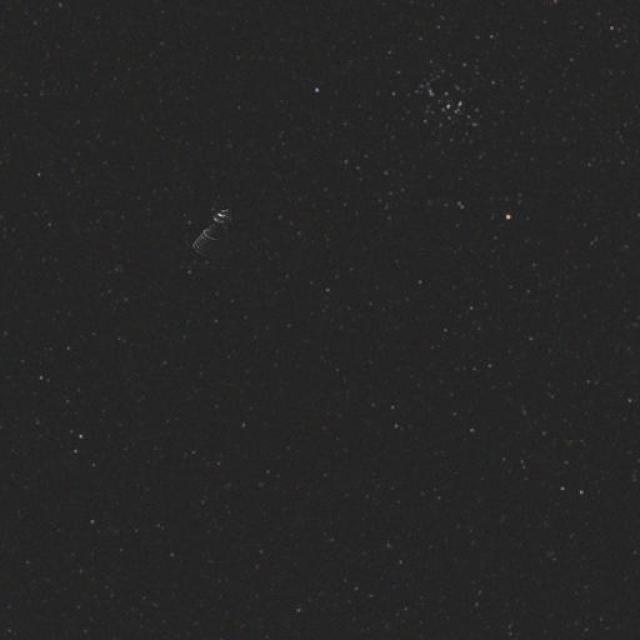debris: (178, 194, 263, 274)
